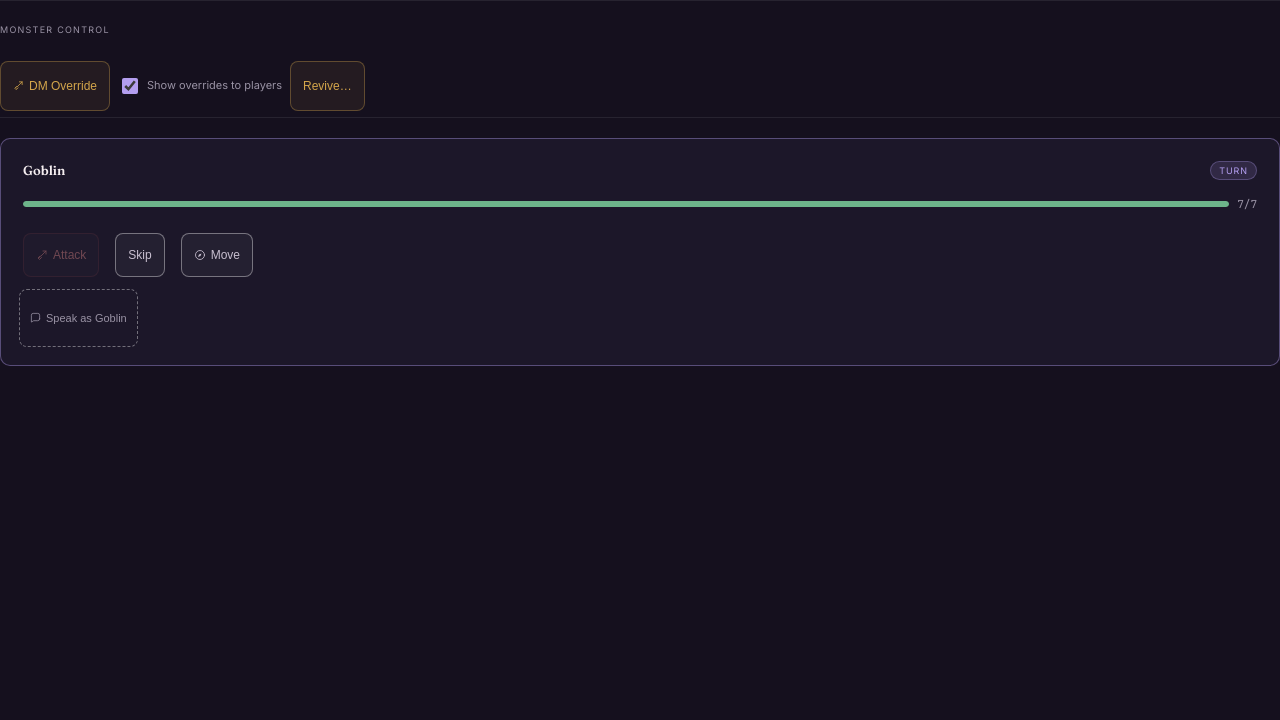
Test: Revive… opener › a held fight's DM Override opens the dialog on Revive only (the opener asked for Attack; the engine takes nothing else)
This screenshot has width=1280, height=720.
Click the button with aria-label "Open DM override modal".
click(55, 86)  # box [0,60,110,110]
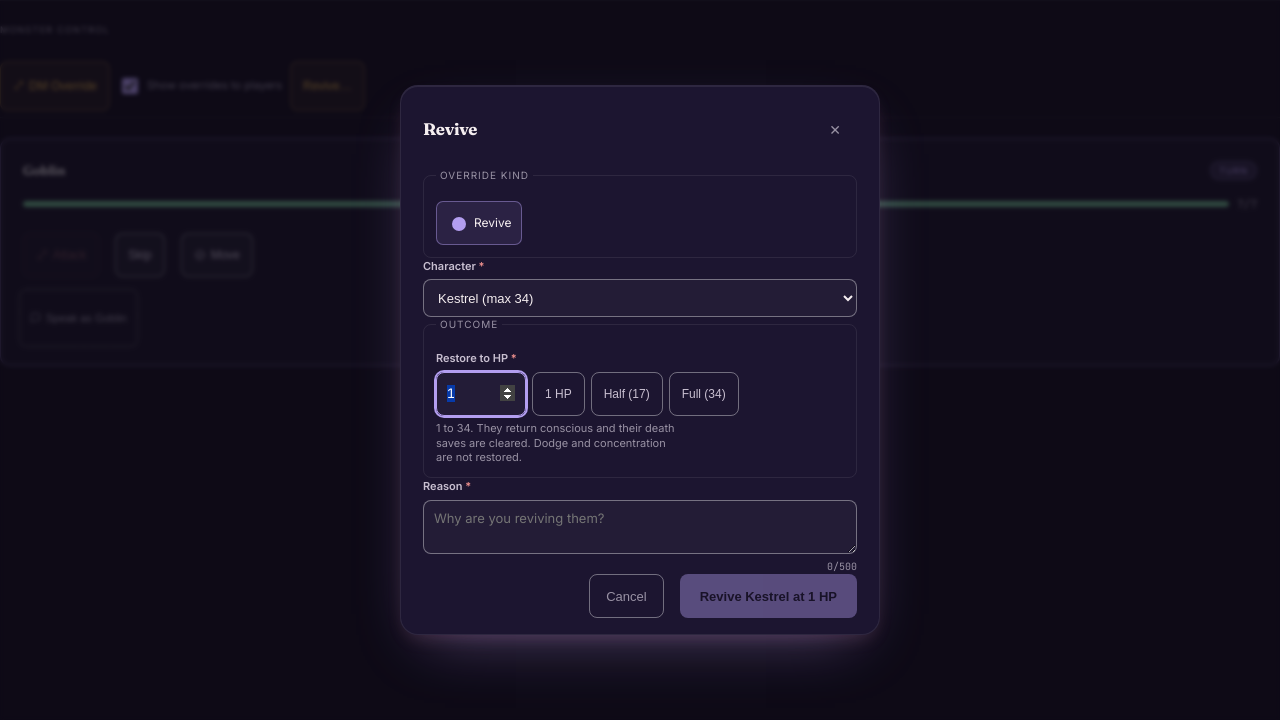
Now the number of radio buttons is 1, box [452,217,466,231]
Now the radio button labelled "Revive" is checked, box [452,217,466,231]
